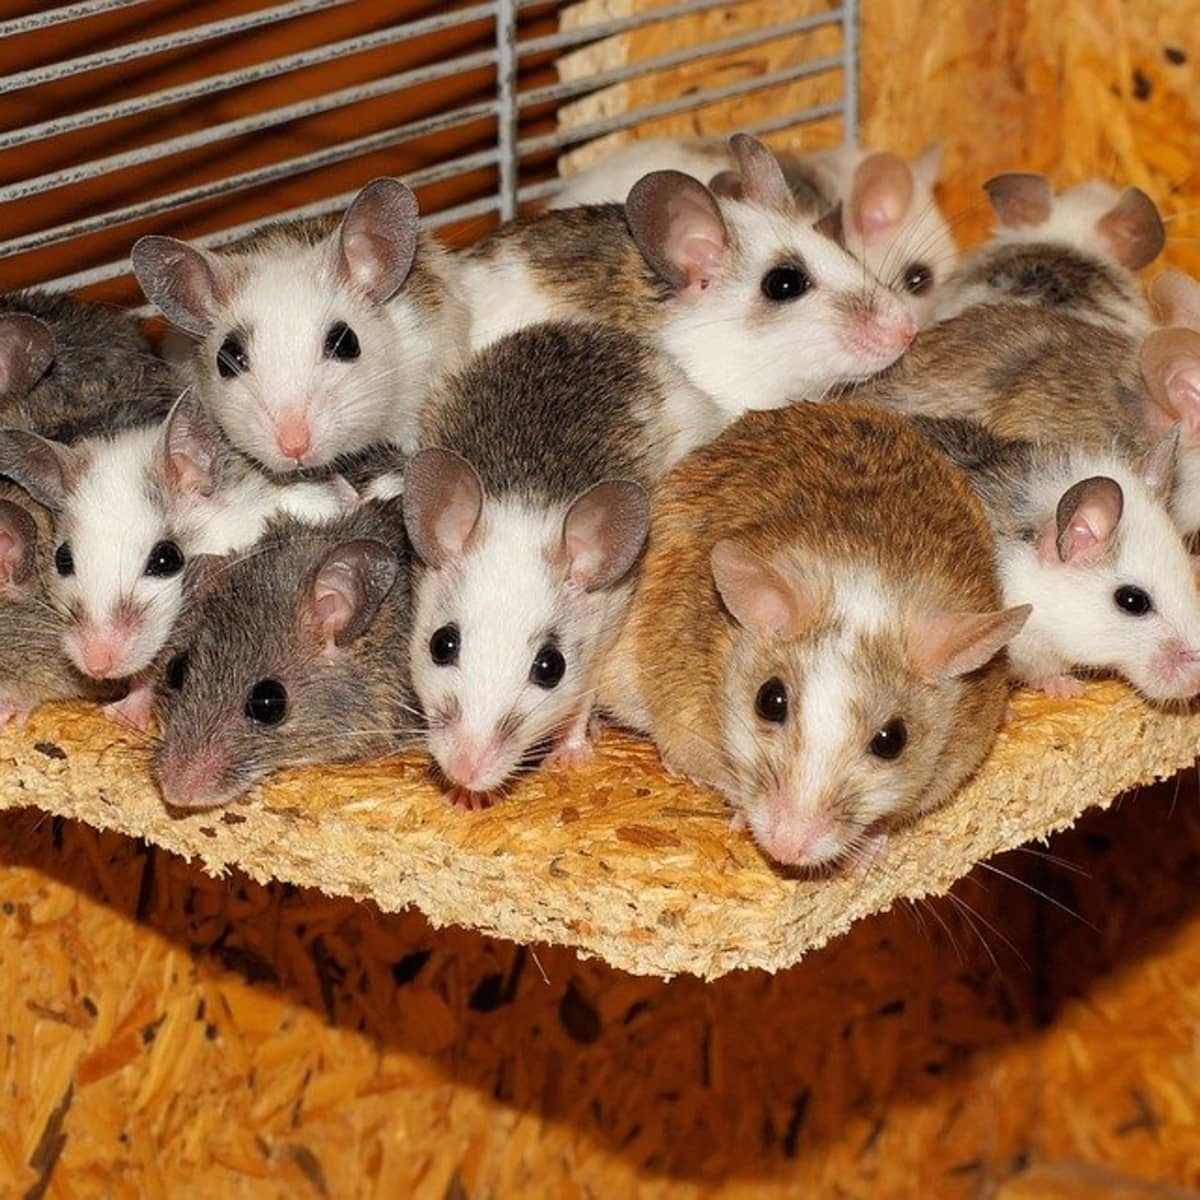rat: (574, 373, 1049, 900), (449, 104, 960, 435), (369, 295, 693, 815), (116, 191, 504, 504), (126, 513, 456, 853), (1, 368, 296, 703), (931, 412, 1200, 745)
